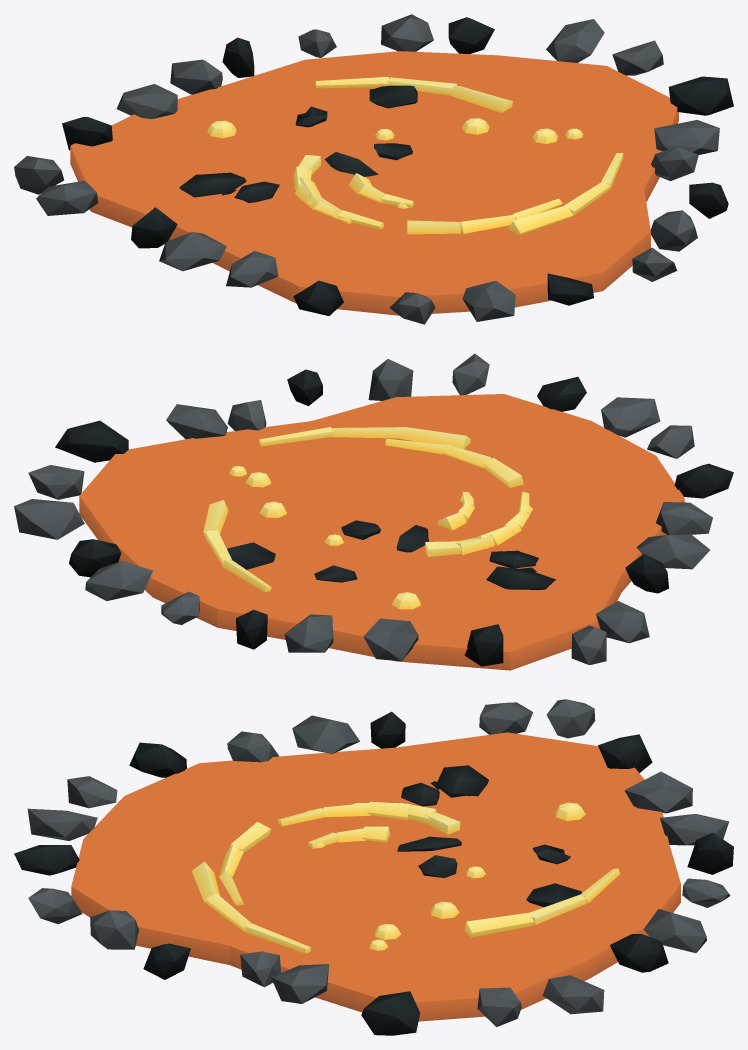
Rendered from magma_pool.glb.
3 renders of one model, top to bottom at view 1: azimuth 30°, elevation 25°; view 2: azimuth 150°, elevation 25°; view 3: azimuth 270°, elevation 25°, orthographic. The views are drawn at different scales.
Visible parts, largest first — view 1: magma_pool; view 2: magma_pool; view 3: magma_pool.
Part boxes in pixels (x1,y1,x2,y2): magma_pool: (14, 14, 733, 324); magma_pool: (14, 353, 733, 670); magma_pool: (14, 699, 733, 1035).
Bounding box in the file's own units: 9.32 × 0.6083 × 8.78.
4 materials, 4 textured.
